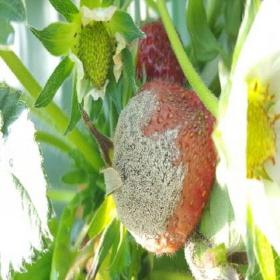Gray Mold: (99, 81, 218, 255)
